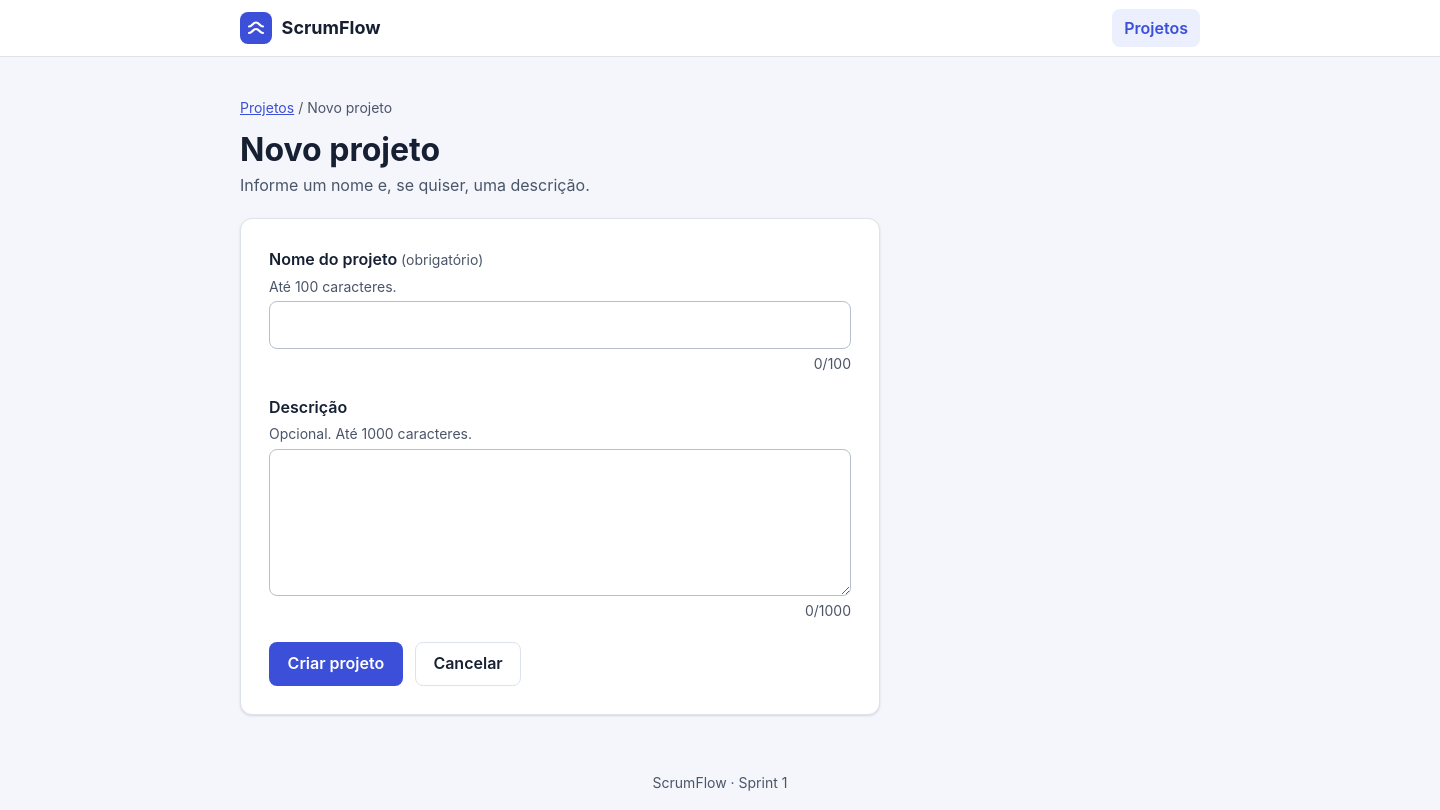
Test case: Criação de projeto › erro 500 não é apresentado como sucesso
Step 1. Click the field labelled "Nome do projeto (obrigatório)" → point(560, 325), box [269,301,851,349]
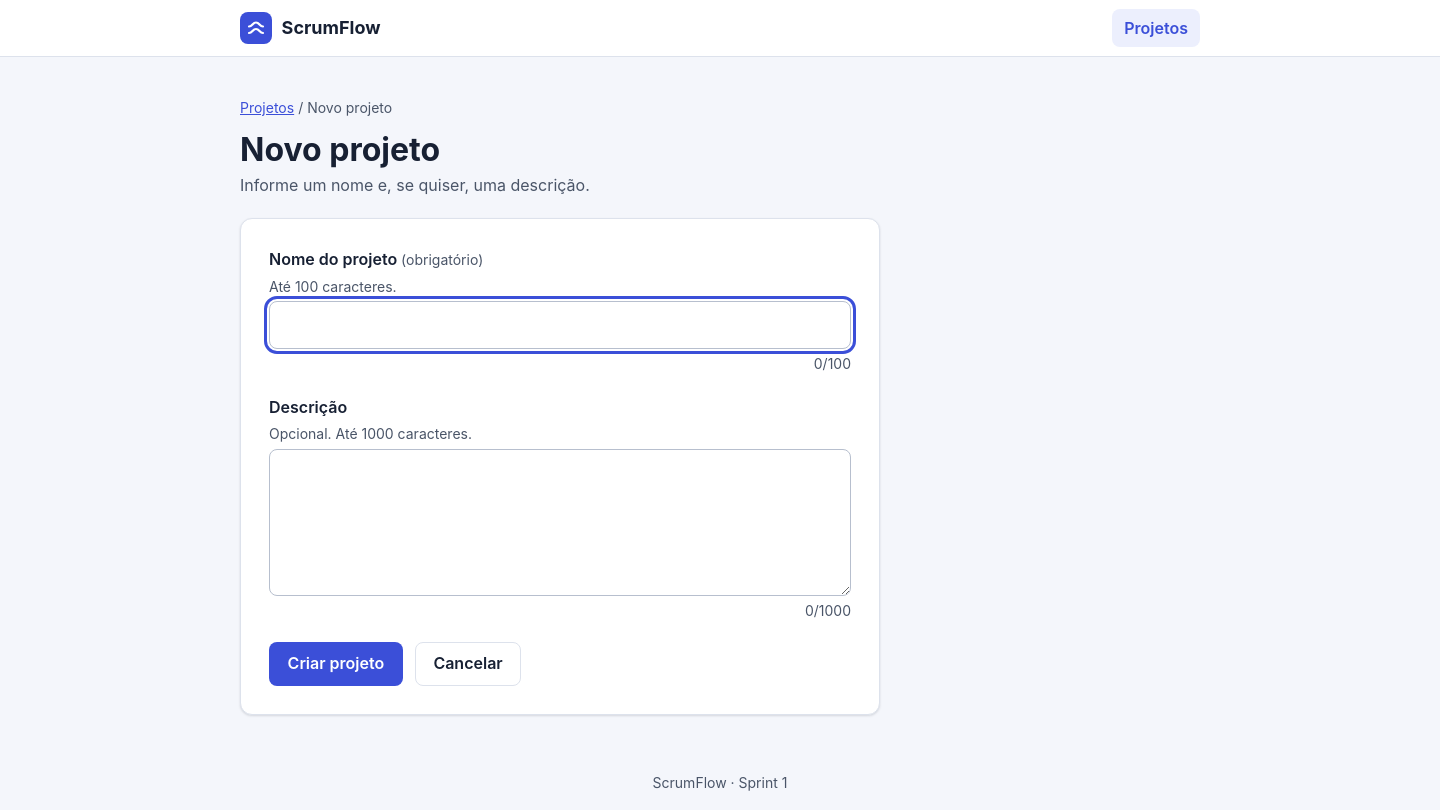
Step 2. Type keys "Alfa"
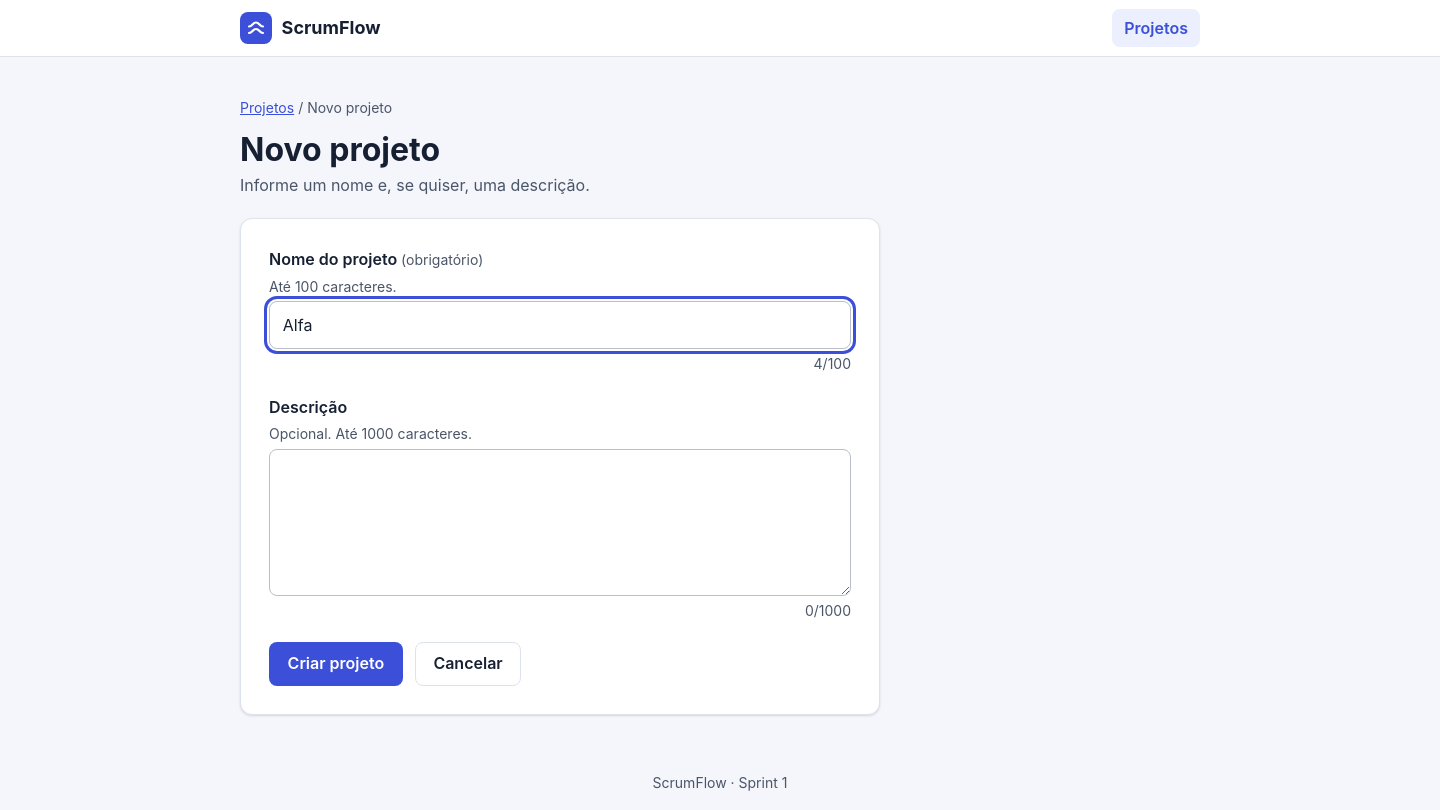
Step 3. Click the button "Criar projeto" → point(336, 664), box [269,642,403,686]
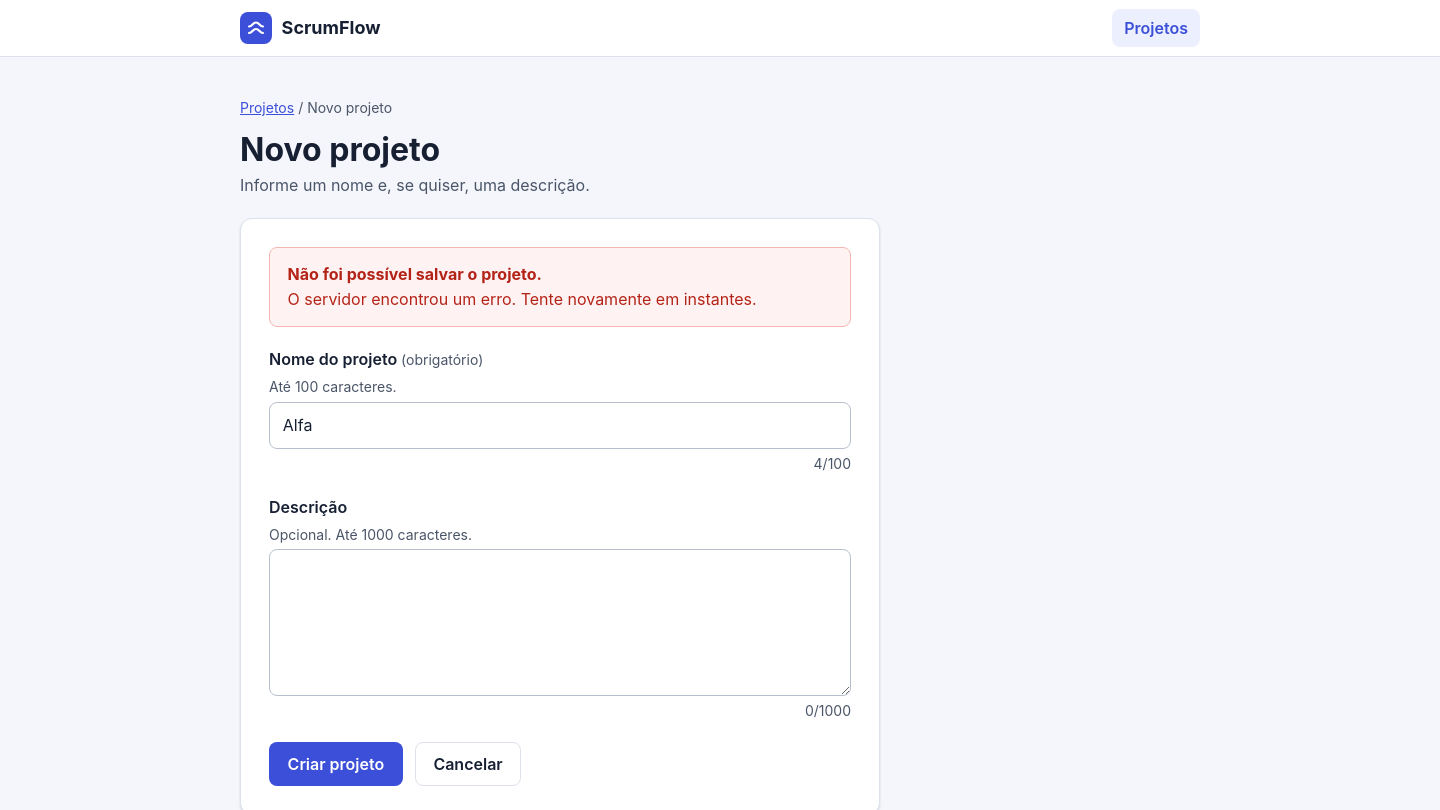
Expected: the message shows "O servidor encontrou um erro", [288,289,757,309]
